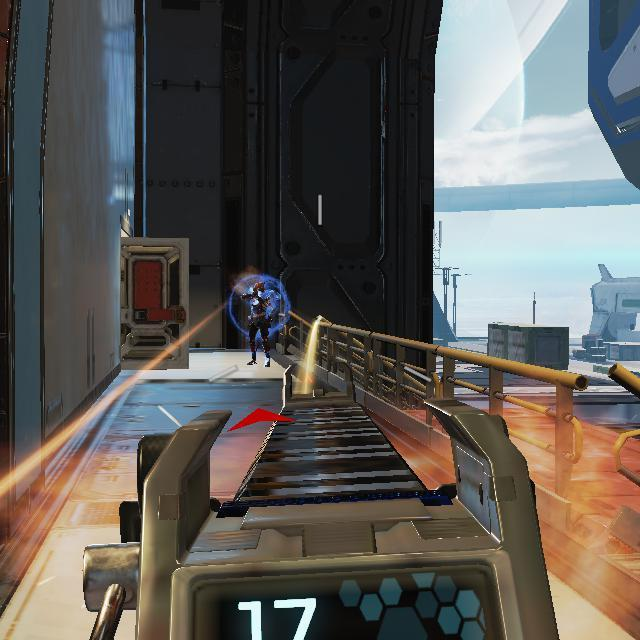avatar: (241, 278, 275, 370)
